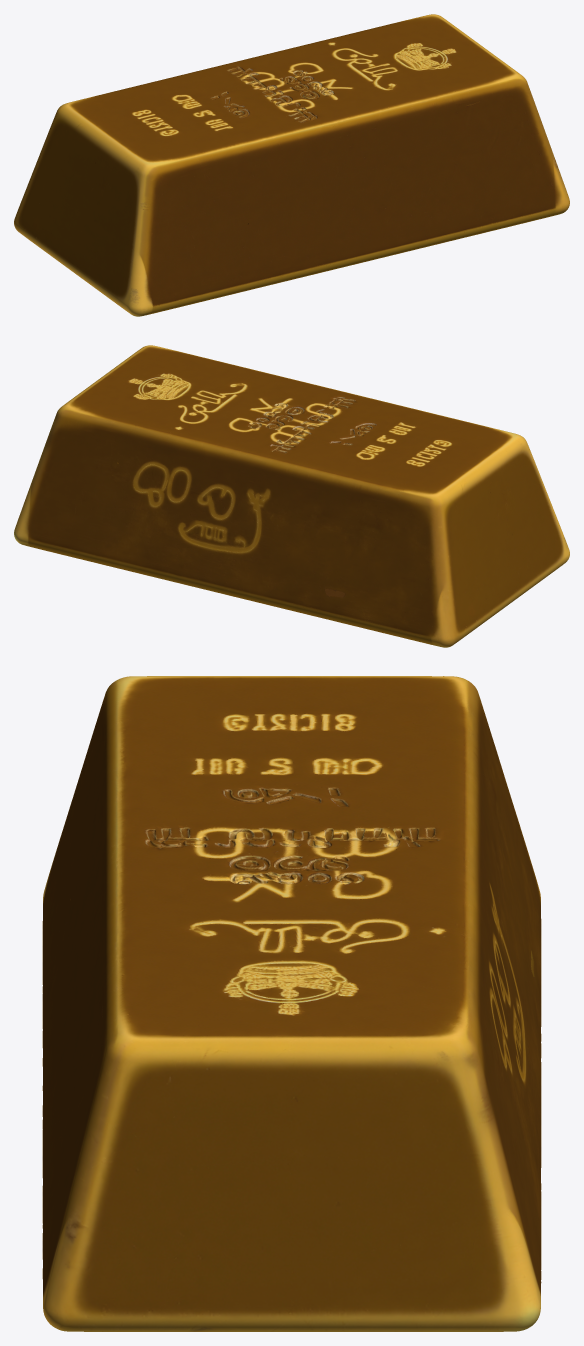
File: gold-bar-pbr-v3.glb
3 views of the same model, one above another, from view 1: azimuth 30°, elevation 25°; view 2: azimuth 150°, elevation 25°; view 3: azimuth 270°, elevation 25° (orthographic). The views are drawn at different scales.
Bounding box in the file's own units: 2 × 0.585 × 0.9797.
Materials: 1 (1 with a texture image).
